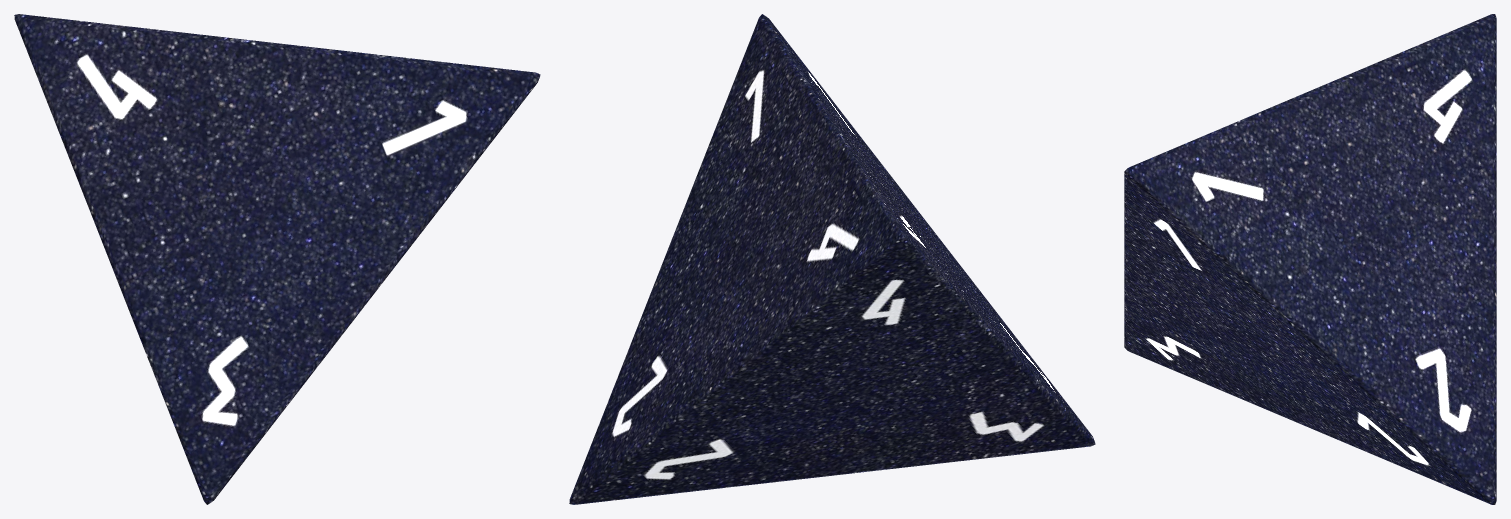
File: dicemodel_d4.gltf
3 renders of one model, left to right at view 1: azimuth 30°, elevation 25°; view 2: azimuth 150°, elevation 25°; view 3: azimuth 270°, elevation 25°, orthographic. The views are drawn at different scales.
Parts seen in each view (by area): view 1: dicemodel_d4; view 2: dicemodel_d4; view 3: dicemodel_d4.
Boxes of the visible parts, x1,y1,x2,y2 form: dicemodel_d4: (14, 14, 540, 504); dicemodel_d4: (569, 14, 1095, 504); dicemodel_d4: (1124, 14, 1496, 504).
Size of the model in its own units: 132 by 132 by 132.
Materials: 1 (1 with a texture image).
